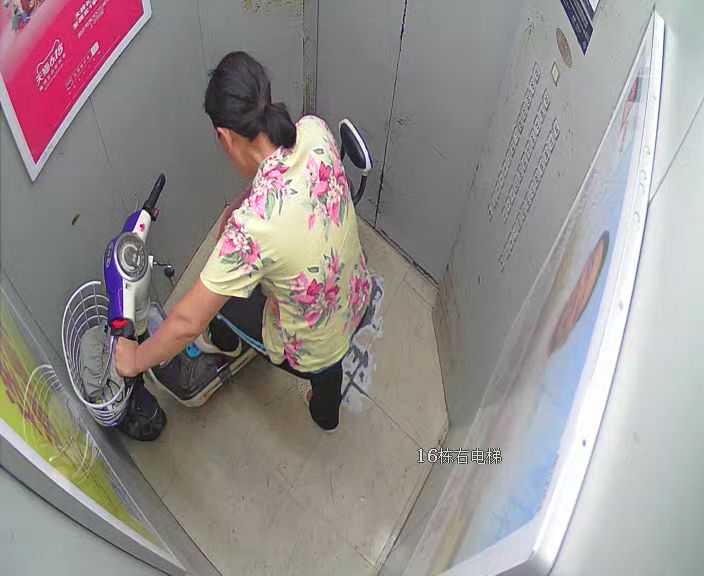Electric-bicycle: (62, 123, 370, 415)
